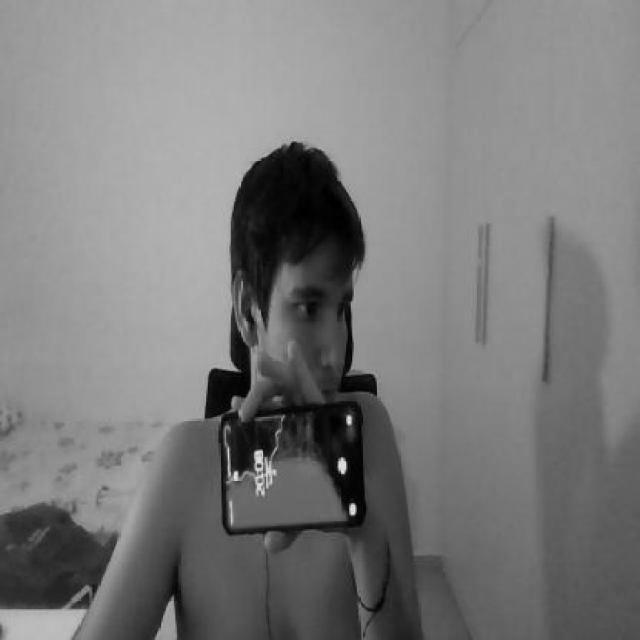fake: (218, 404, 368, 538)
real: (278, 281, 355, 328)
